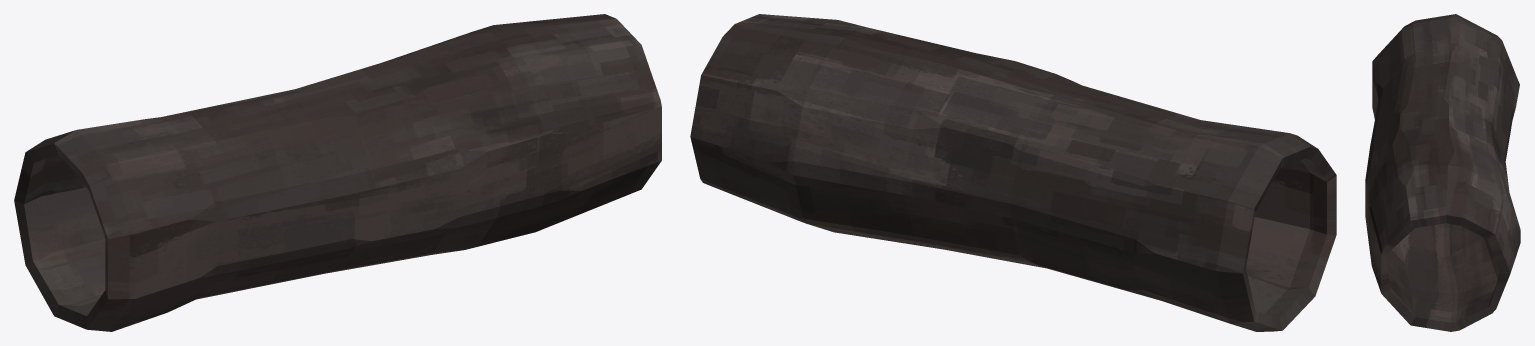
The model's file is buchedarbre2.fbx.
3 views of the same model, side by side, from view 1: azimuth 30°, elevation 25°; view 2: azimuth 150°, elevation 25°; view 3: azimuth 270°, elevation 25° (orthographic). The views are drawn at different scales.
Visible parts, largest first — view 1: Cylinder.002; view 2: Cylinder.002; view 3: Cylinder.002.
Part boxes in pixels (x1,y1,x2,y2): Cylinder.002: (14, 14, 661, 331); Cylinder.002: (690, 14, 1336, 331); Cylinder.002: (1365, 14, 1520, 331).
Bounding box in the file's own units: 663 × 218 × 222.
